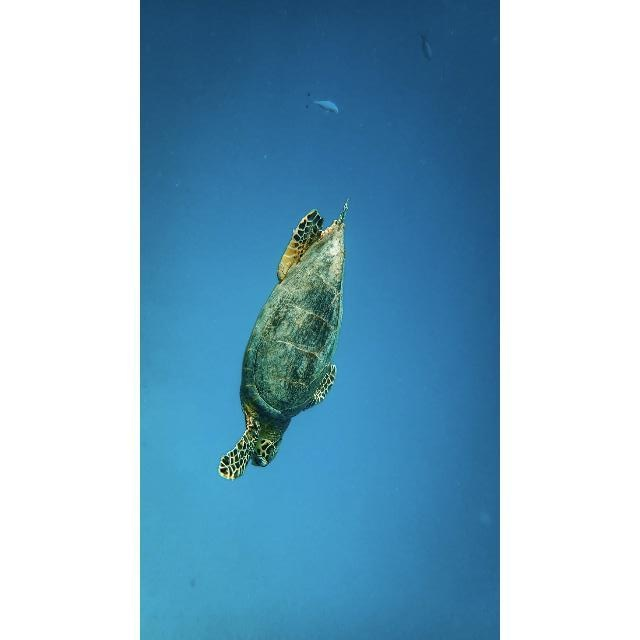turtle: (217, 200, 351, 478)
